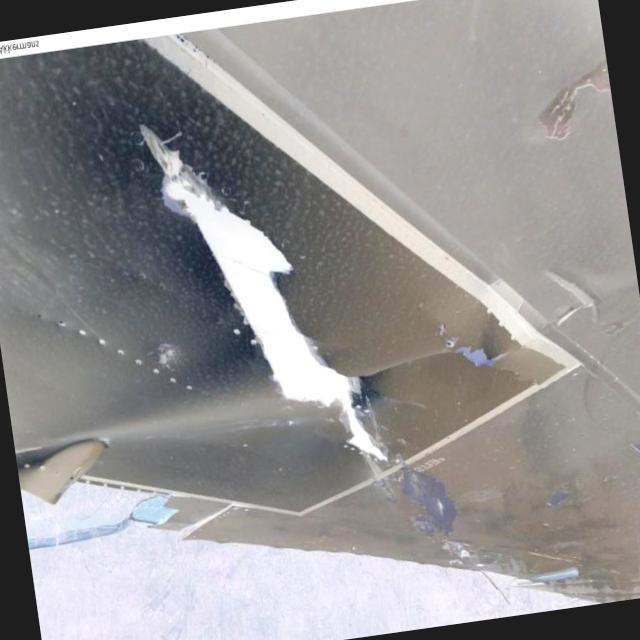crack: (138, 95, 392, 491)
